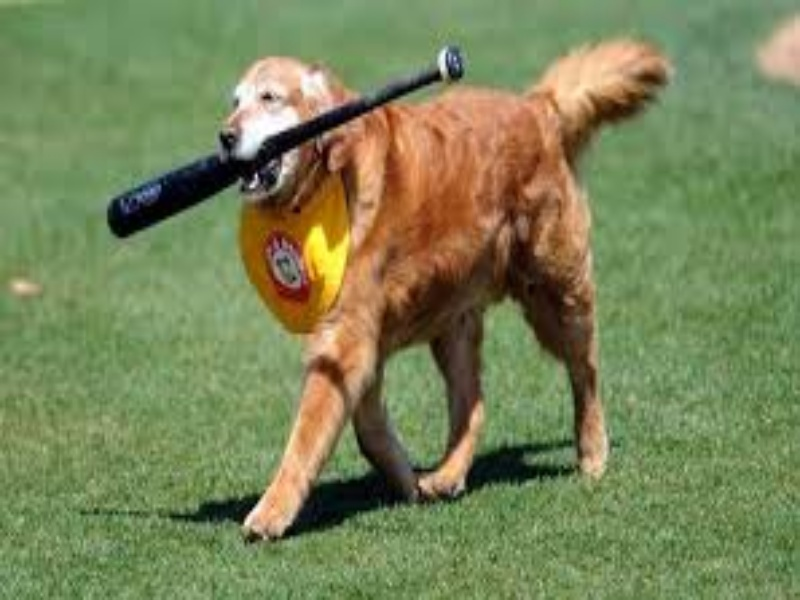dog: (212, 36, 670, 553)
